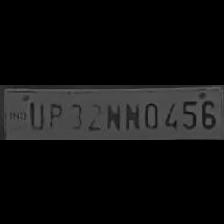0: (140, 97, 160, 128)
2: (84, 97, 102, 130)
3: (64, 98, 84, 130)
4: (162, 96, 178, 130)
5: (179, 96, 197, 128)
6: (198, 96, 216, 128)
N: (102, 99, 122, 131), (121, 99, 139, 131)
P: (44, 98, 62, 130)
U: (26, 97, 44, 128)
